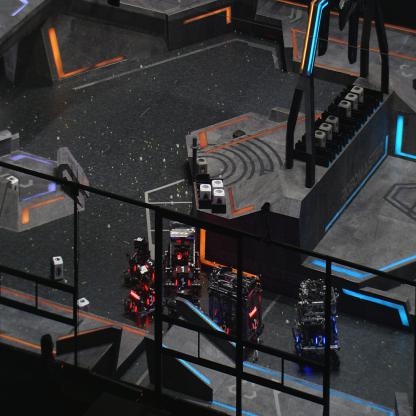car: (207, 264, 264, 351), (291, 278, 341, 372), (162, 217, 202, 298), (121, 266, 165, 324), (121, 236, 159, 287)
